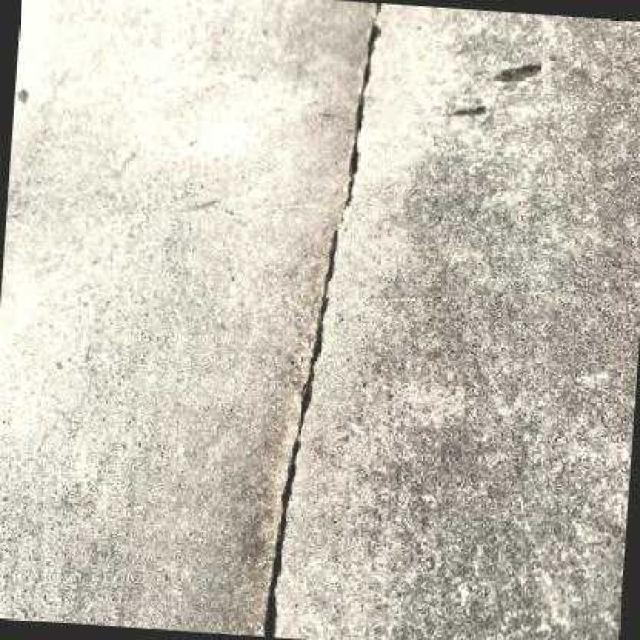D00: (262, 3, 383, 638)
